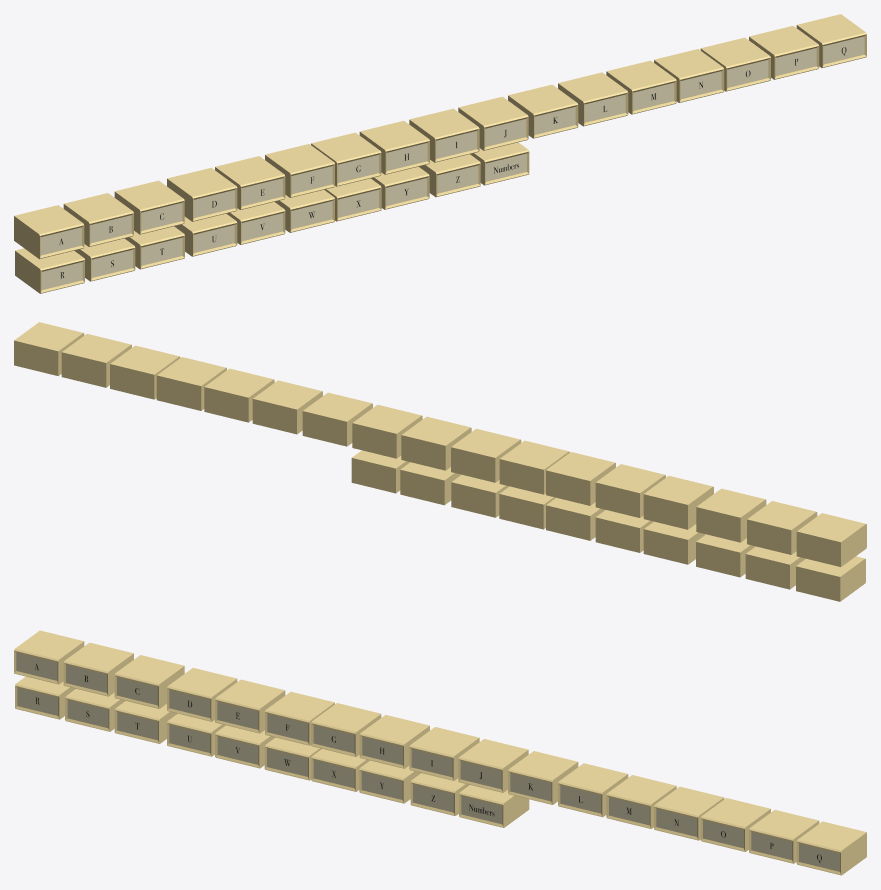
The model's file is Cardholders.fbx.
The picture shows the model from 3 angles, top to bottom: view 1: azimuth 30°, elevation 25°; view 2: azimuth 150°, elevation 25°; view 3: azimuth 330°, elevation 25°; orthographic projection.
Visible parts, largest first — view 1: CardHolder, CardHolder3, CardHolder2, CardHolder11, CardHolder10, CardHolder1, CardHolder5, CardHolder8, CardHolder9, CardHolder7, CardHolder12, CardHolder15 (+42 smaller); view 2: CardHolder, CardHolder3, CardHolder2, CardHolder11, CardHolder10, CardHolder1, CardHolder5, CardHolder8, CardHolder9, CardHolder7, CardHolder12, CardHolder15 (+15 smaller); view 3: CardHolder16, CardHolder2, CardHolder1, CardHolder7, CardHolder4, CardHolder10, CardHolder, CardHolder9, CardHolder8, CardHolder6, CardHolder11, CardHolder14 (+42 smaller).
Boxes of the visible parts, left/top/right/bottom form: CardHolder: left=14, top=205, right=84, bottom=259; CardHolder3: left=167, top=167, right=237, bottom=221; CardHolder2: left=114, top=180, right=184, bottom=234; CardHolder11: left=558, top=72, right=628, bottom=126; CardHolder10: left=508, top=84, right=578, bottom=138; CardHolder1: left=63, top=193, right=133, bottom=246; CardHolder5: left=265, top=144, right=334, bottom=197; CardHolder8: left=409, top=108, right=479, bottom=162; CardHolder9: left=458, top=96, right=528, bottom=150; CardHolder7: left=359, top=121, right=429, bottom=174; CardHolder12: left=606, top=60, right=676, bottom=114; CardHolder15: left=749, top=26, right=819, bottom=79; CardHolder: left=796, top=513, right=866, bottom=566; CardHolder3: left=643, top=476, right=713, bottom=529; CardHolder2: left=696, top=488, right=766, bottom=542; CardHolder11: left=252, top=380, right=322, bottom=434; CardHolder10: left=302, top=392, right=372, bottom=446; CardHolder1: left=747, top=501, right=817, bottom=554; CardHolder5: left=546, top=452, right=615, bottom=505; CardHolder8: left=401, top=416, right=471, bottom=470; CardHolder9: left=352, top=404, right=422, bottom=458; CardHolder7: left=451, top=428, right=521, bottom=482; CardHolder12: left=204, top=368, right=274, bottom=422; CardHolder15: left=61, top=334, right=131, bottom=387; CardHolder16: left=796, top=821, right=866, bottom=875; CardHolder2: left=114, top=655, right=184, bottom=708; CardHolder1: left=63, top=642, right=133, bottom=696; CardHolder7: left=359, top=715, right=429, bottom=768; CardHolder4: left=215, top=679, right=285, bottom=733; CardHolder10: left=508, top=751, right=578, bottom=804; CardHolder: left=14, top=630, right=84, bottom=684; CardHolder9: left=458, top=739, right=528, bottom=792; CardHolder8: left=409, top=727, right=479, bottom=780; CardHolder6: left=311, top=703, right=381, bottom=756; CardHolder11: left=558, top=763, right=628, bottom=817; CardHolder14: left=700, top=798, right=770, bottom=851.
Size of the model in its own units: 9.41 by 0.6499 by 0.5109.
28 materials, 27 textured.
